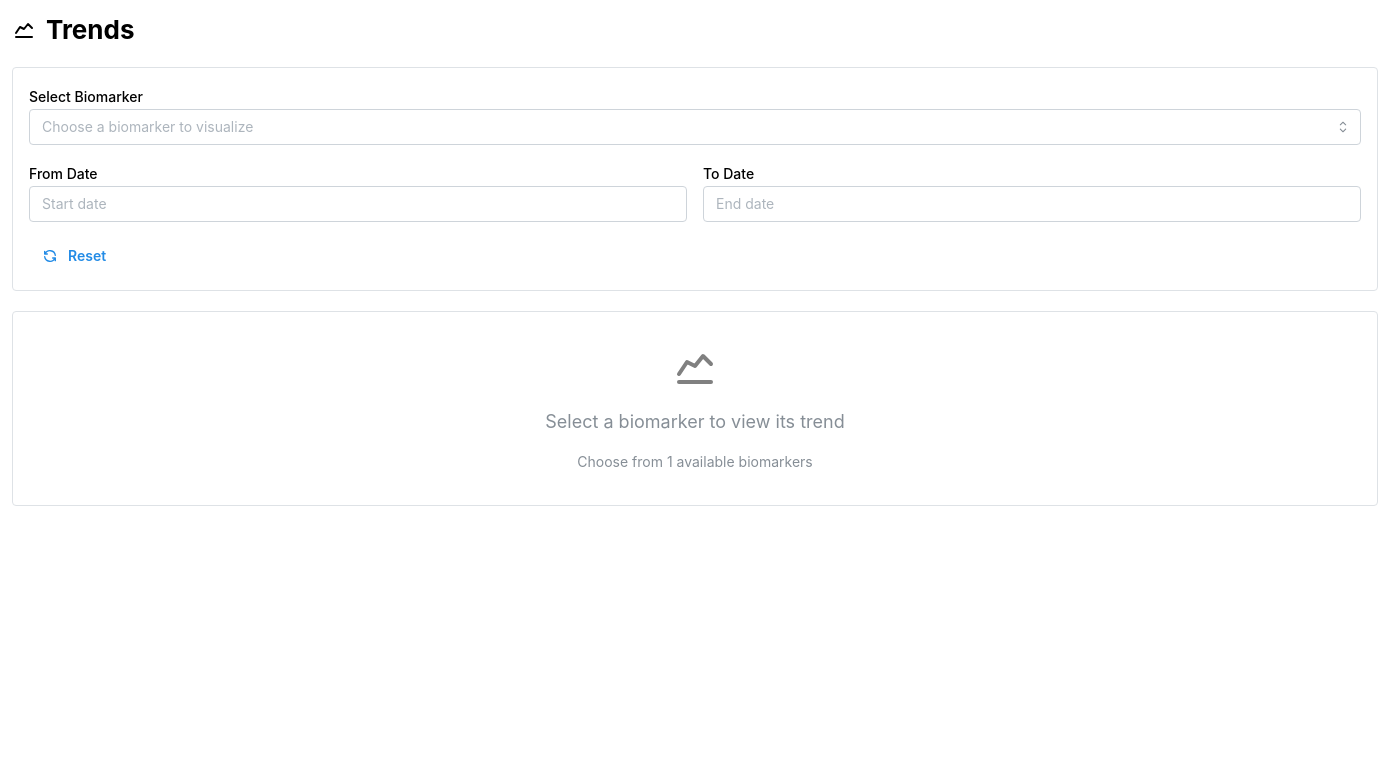
TrendsView › should show trend chart when biomarker is selected
// Open dropdown
Click the field with placeholder "Choose a biomarker to visualize" at (695, 127), box [29,109,1361,145]
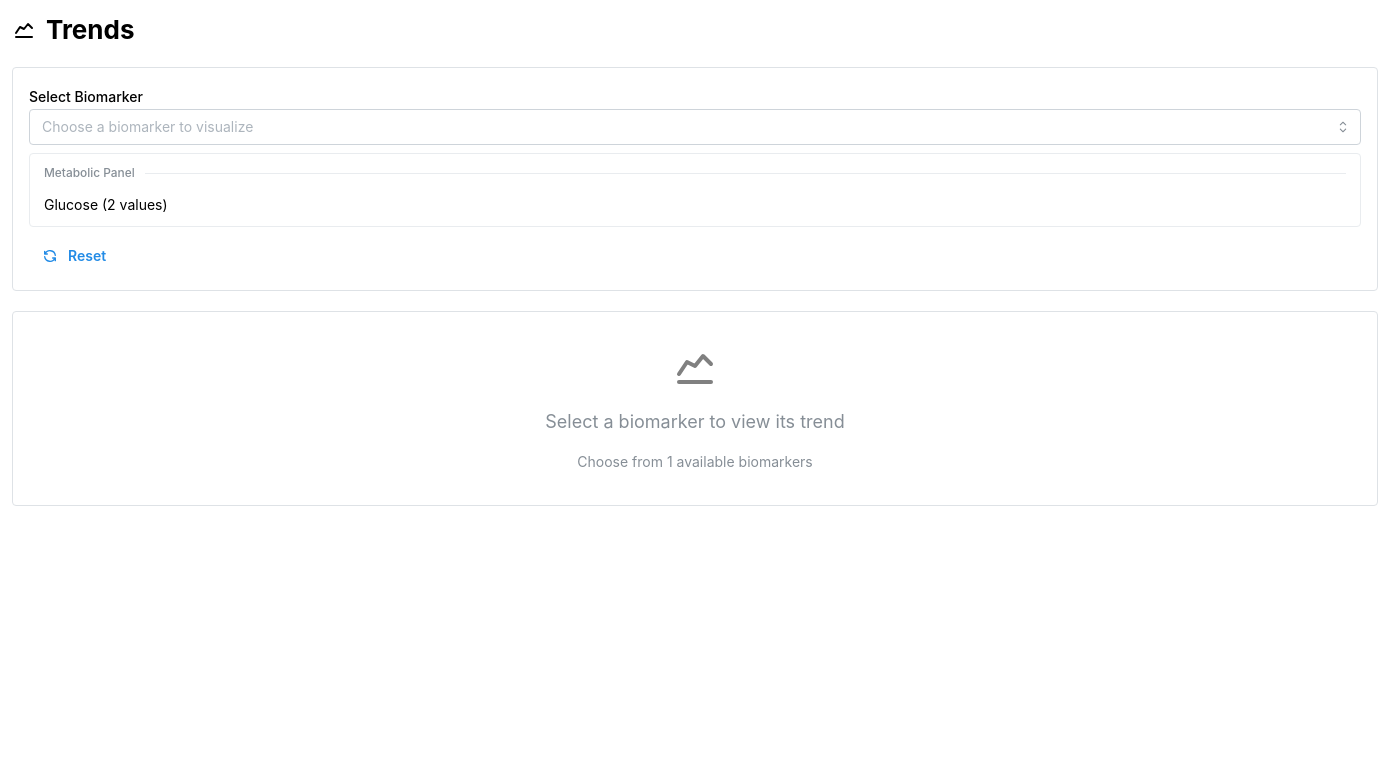
Expected: the list is shown, [44,165,168,213]
// Select the Glucose option using text content
Click the option "Glucose (2 values)" at (106, 205), box [44,196,168,213]
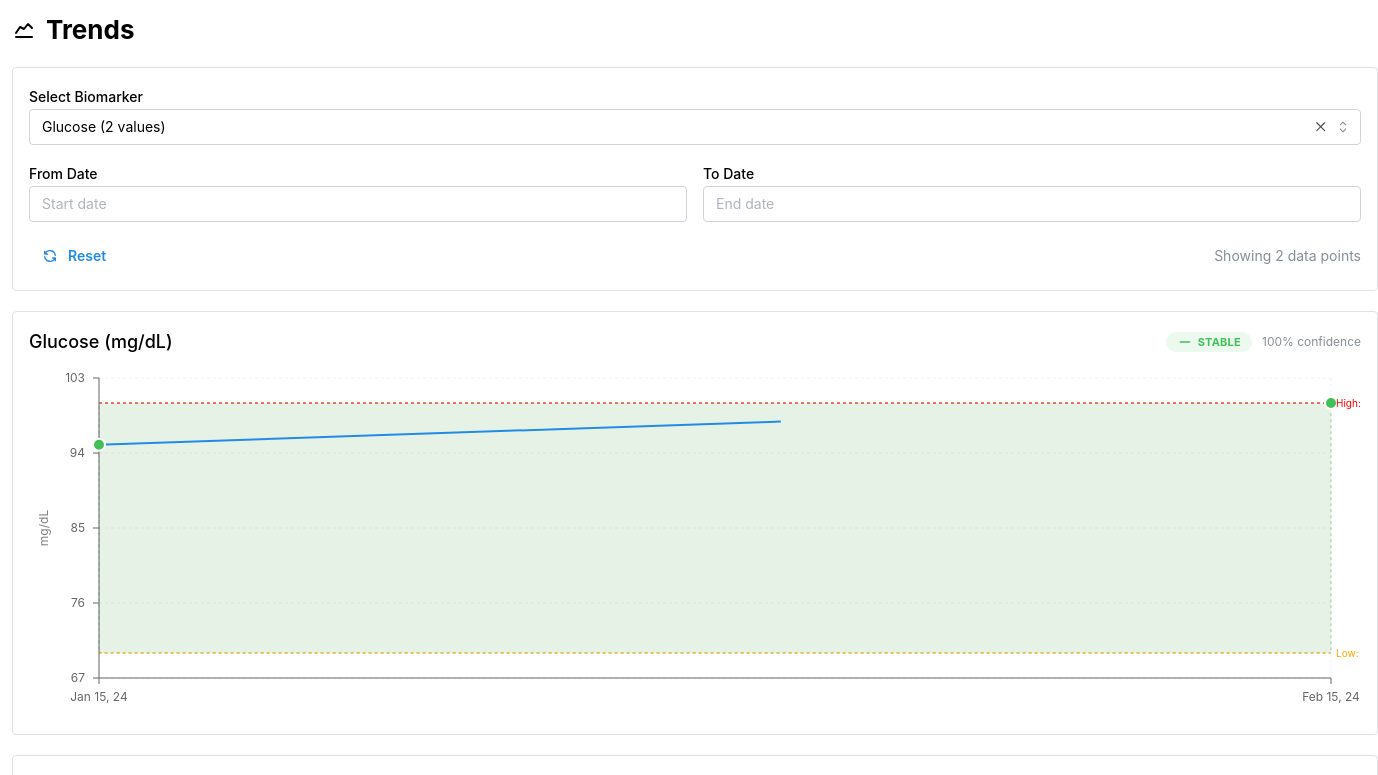
Expected: the text "Glucose (mg/dL)" is shown, [29,328,173,356]
